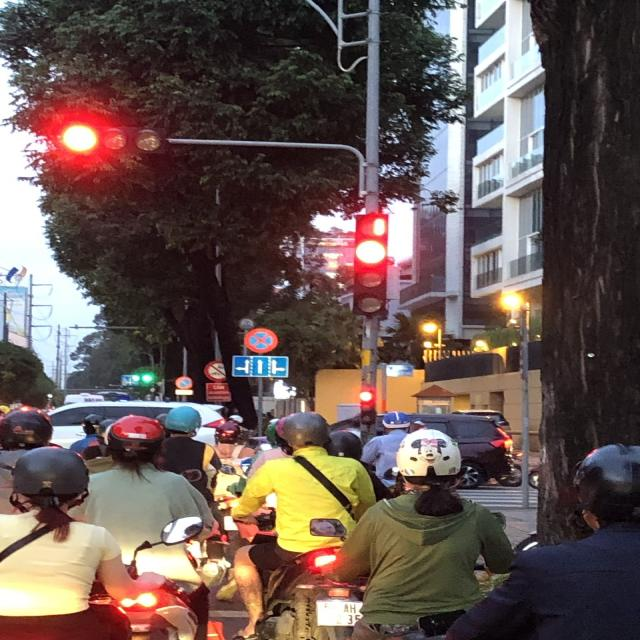Bien bao cam dung xe va do xe: (242, 324, 281, 355)
